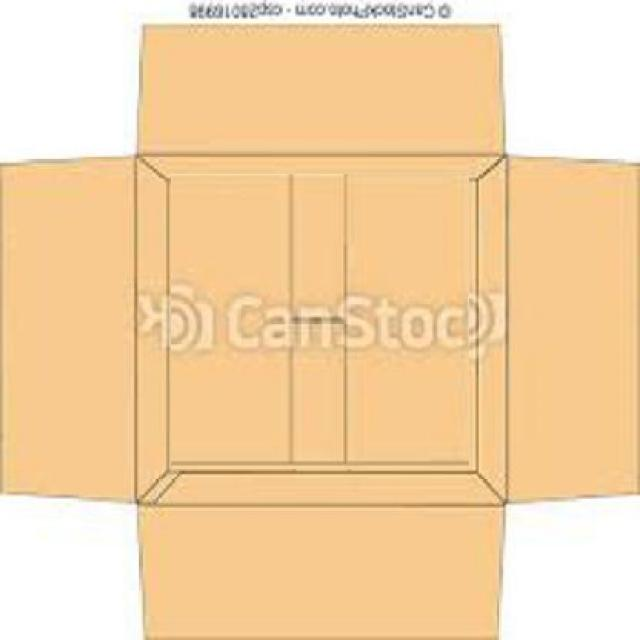normal: (171, 174, 469, 469)
